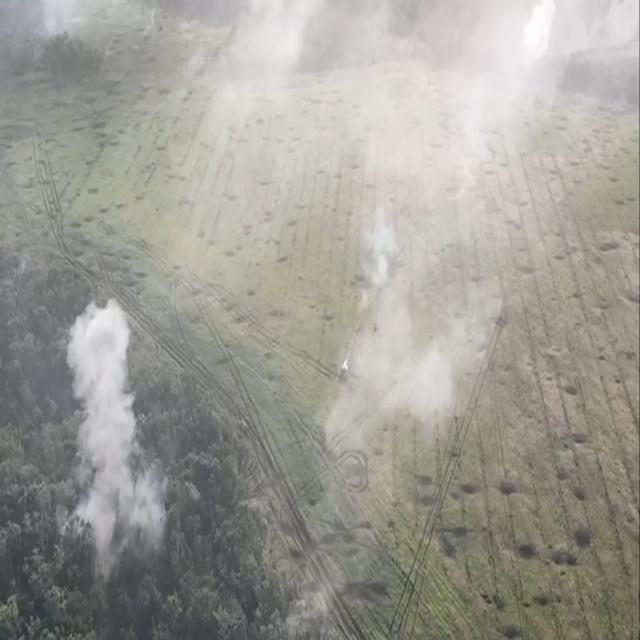APC: (238, 419, 250, 437)
MBT: (339, 363, 351, 383)
